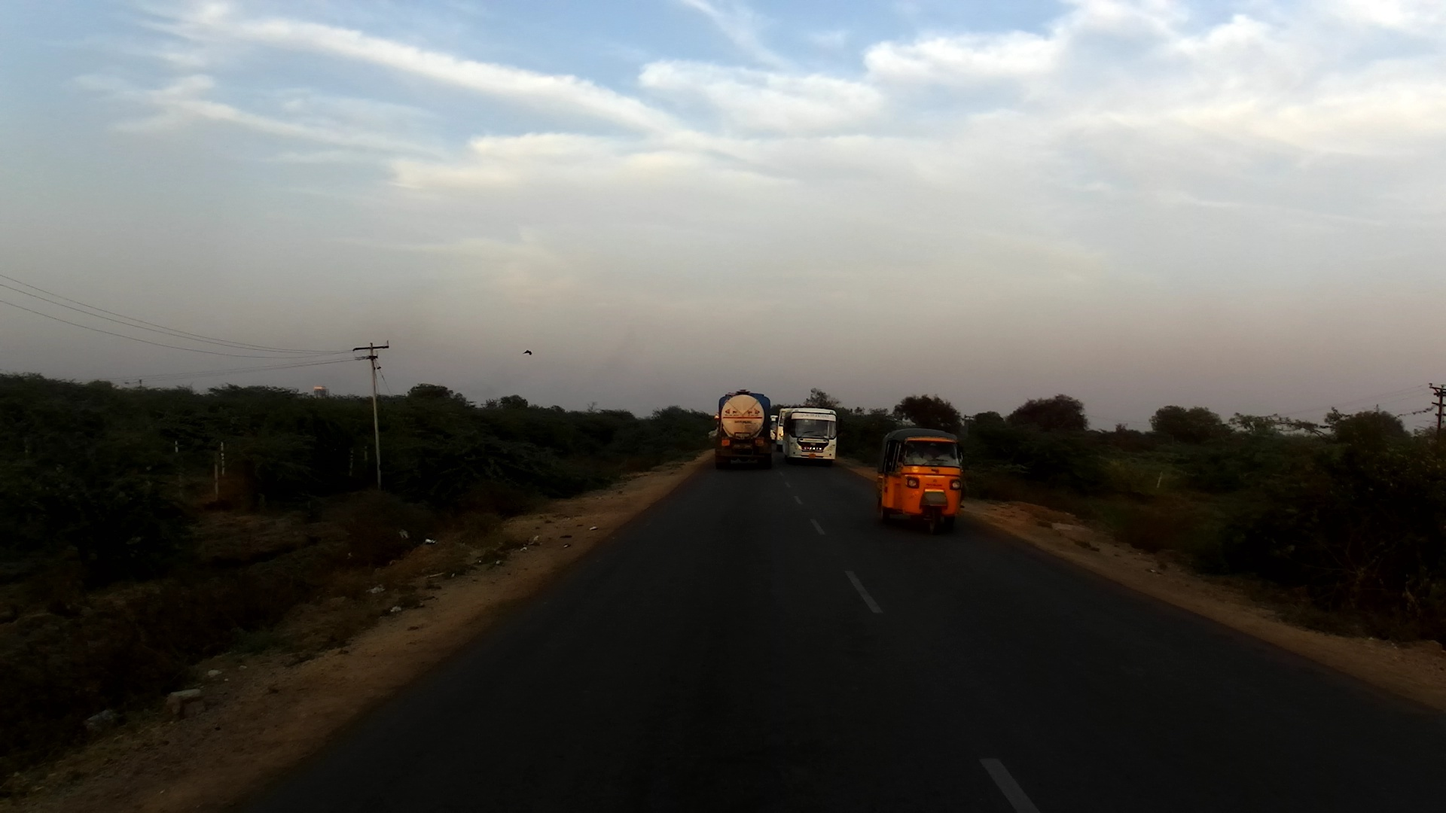autorickshaw: (877, 425, 969, 536)
bus: (784, 399, 837, 469), (774, 404, 794, 461), (766, 415, 782, 449)
truck: (710, 391, 779, 473)
